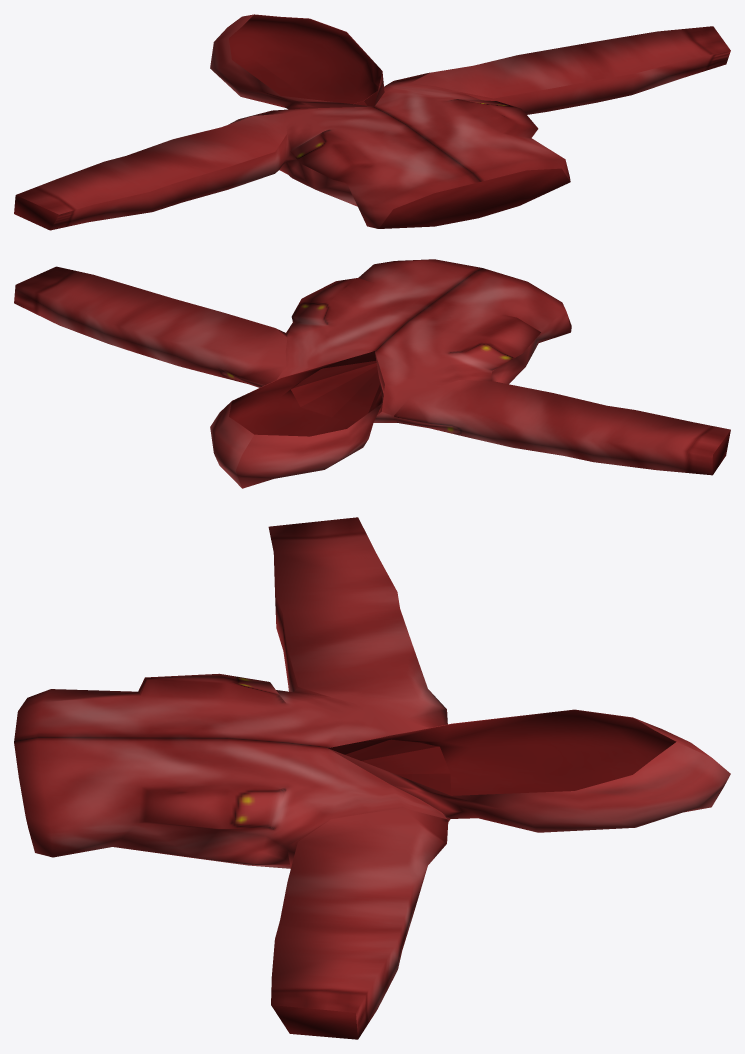
File: Kurtk_9_Ground.fbx
3 views of the same model, one above another, from view 1: azimuth 30°, elevation 25°; view 2: azimuth 150°, elevation 25°; view 3: azimuth 270°, elevation 25° (orthographic). The views are drawn at different scales.
Parts seen in each view (by area): view 1: Body.036; view 2: Body.036; view 3: Body.036.
Boxes of the visible parts, x1,y1,x2,y2 form: Body.036: [14, 14, 730, 230]; Body.036: [14, 259, 730, 488]; Body.036: [14, 517, 730, 1039].
Size of the model in its own units: 0.7551 by 0.0523 by 0.4616.
